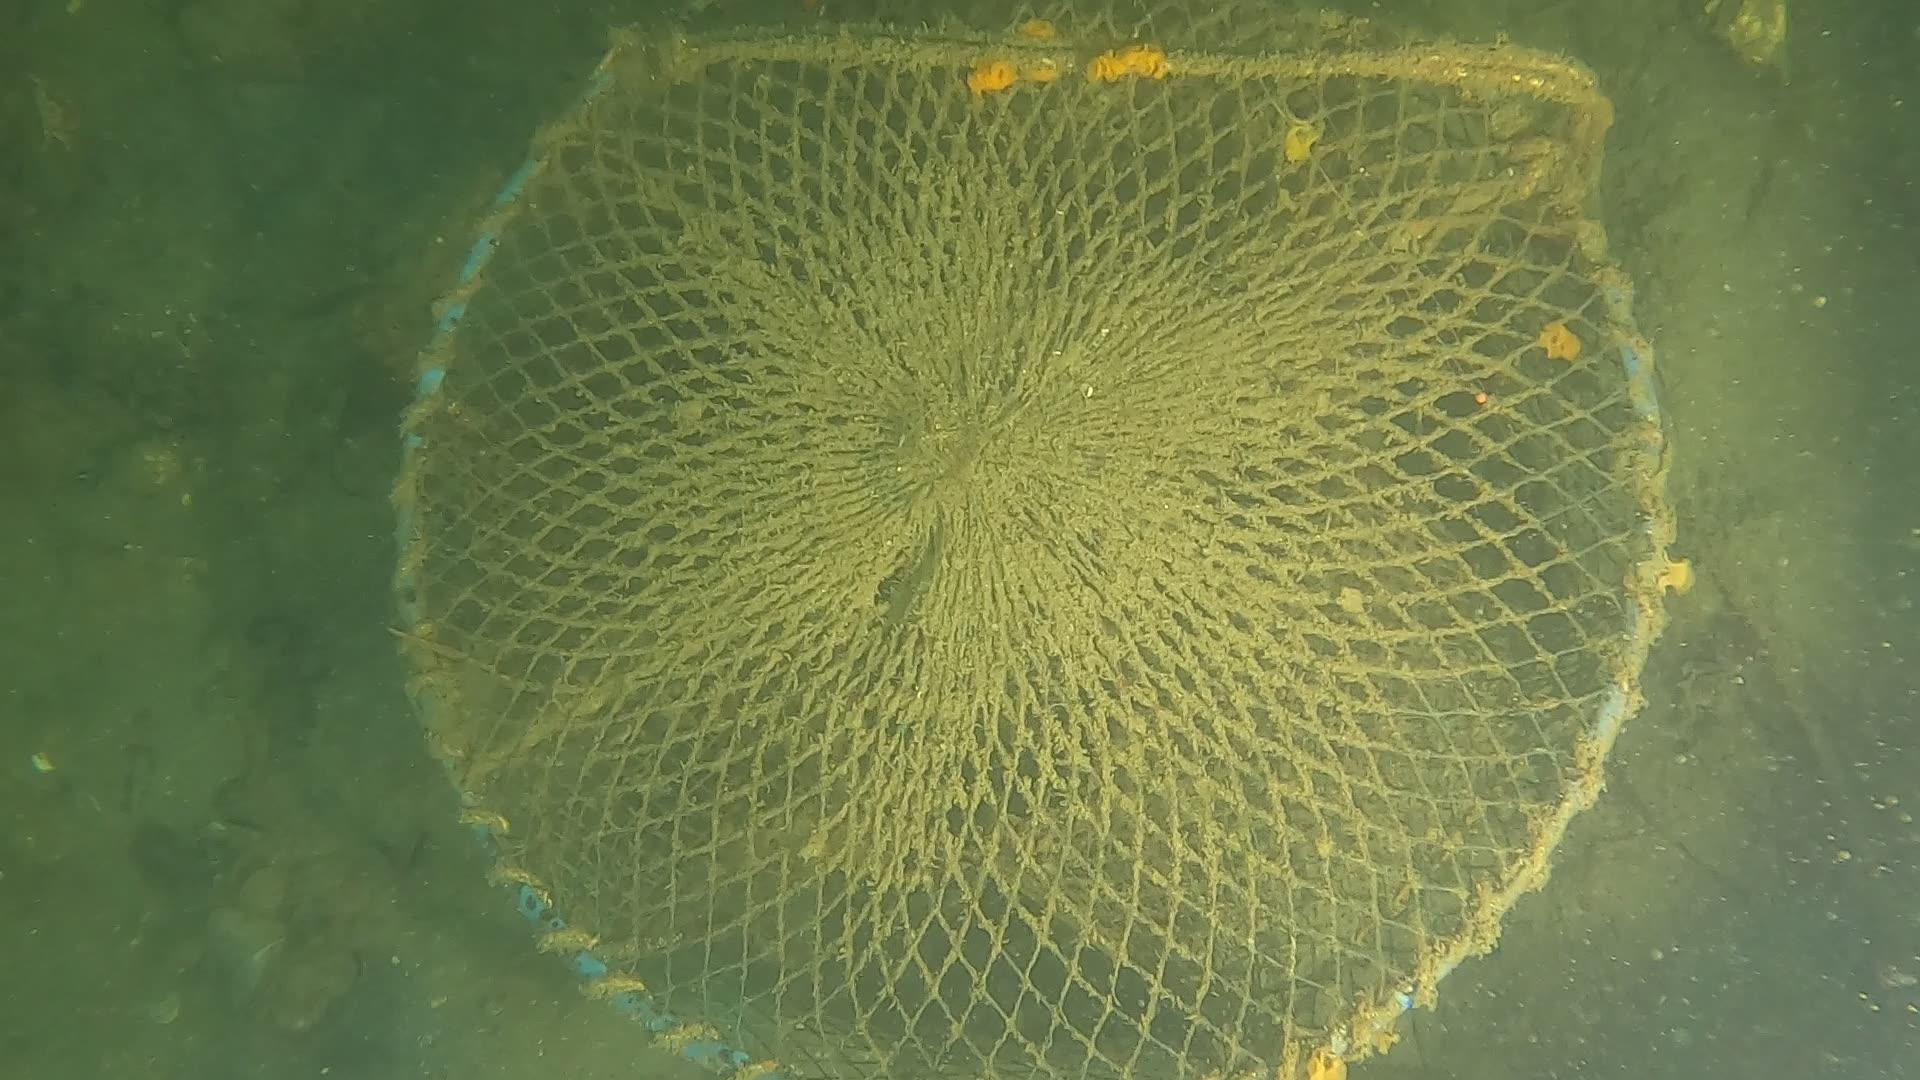circular fish trap: (386, 0, 1684, 1080)
